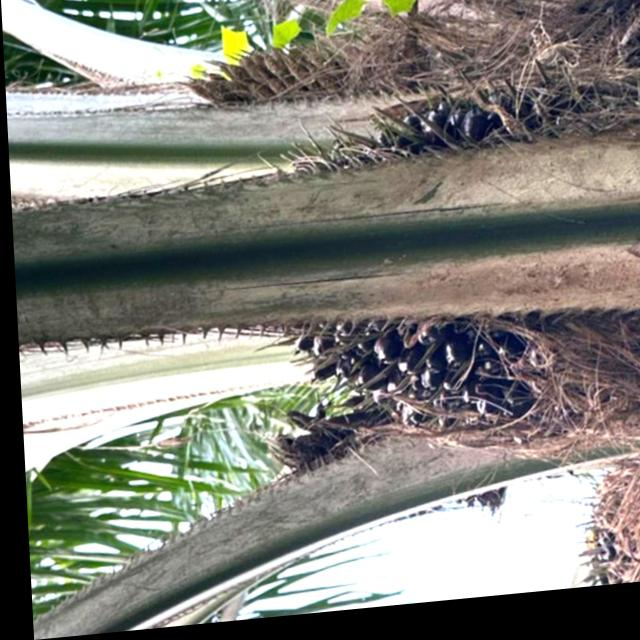ripe: (210, 60, 575, 466)
